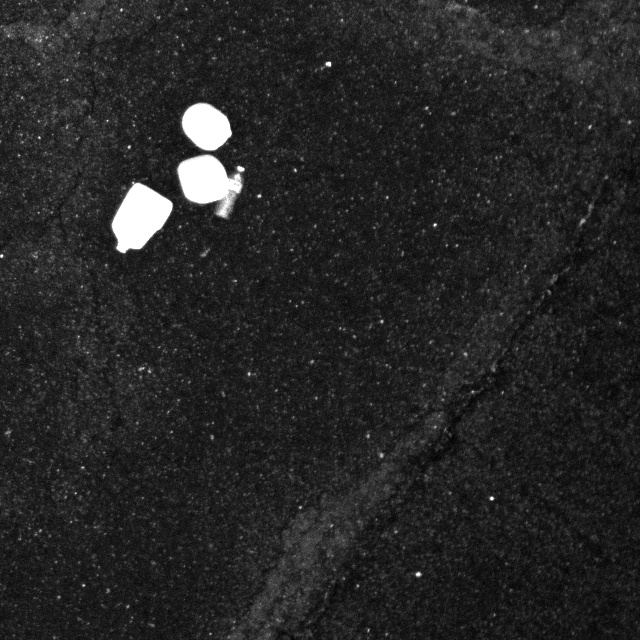bottle: (212, 161, 248, 222)
can: (106, 176, 178, 262), (176, 100, 235, 157), (174, 152, 230, 207)
